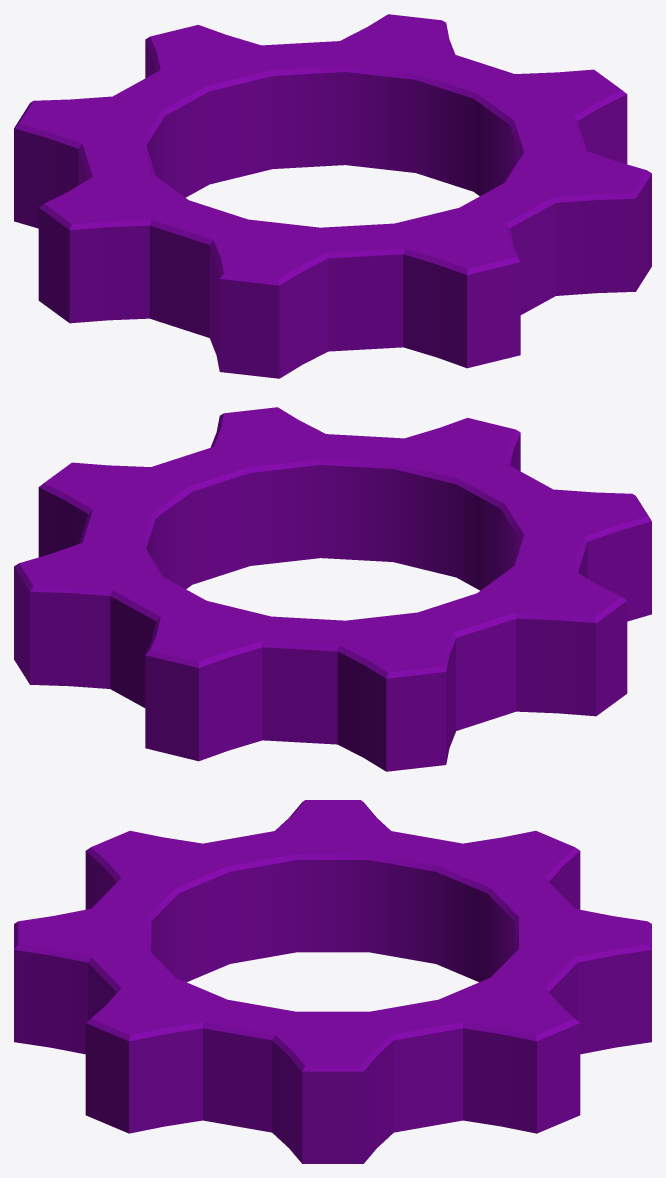
Rendered from geo_gear_normal.fbx.
The picture shows the model from 3 angles, top to bottom: view 1: azimuth 30°, elevation 25°; view 2: azimuth 150°, elevation 25°; view 3: azimuth 270°, elevation 25°; orthographic projection.
Parts seen in each view (by area): view 1: geo_gear_normal; view 2: geo_gear_normal; view 3: geo_gear_normal.
Boxes of the visible parts, <box> form: geo_gear_normal: <box>14,14,651,378</box>; geo_gear_normal: <box>14,407,651,771</box>; geo_gear_normal: <box>14,800,651,1163</box>.
Size of the model in its own units: 2.74 by 0.4555 by 2.74.
